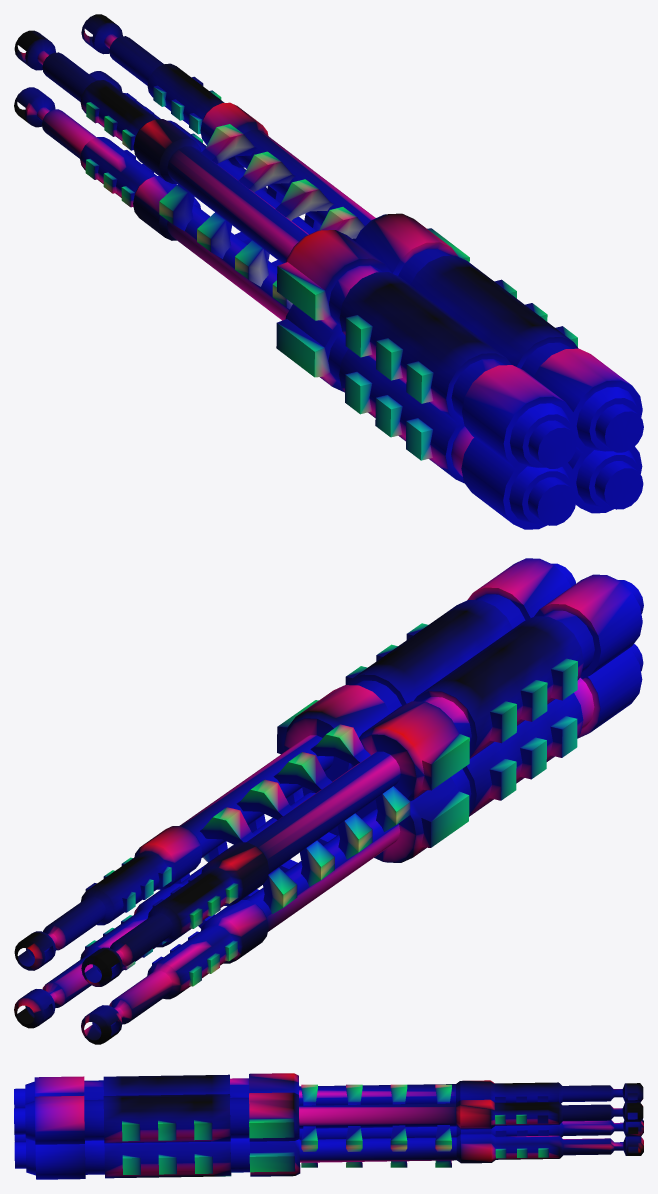
File: wpn_laser_cannon_01_quadBracket.fbx
3 views of the same model, one above another, from view 1: azimuth 30°, elevation 25°; view 2: azimuth 150°, elevation 25°; view 3: azimuth 270°, elevation 25° (orthographic). The views are drawn at different scales.
Visible parts, largest first — view 1: wpn_laser_cannon_01_quadBracket; view 2: wpn_laser_cannon_01_quadBracket; view 3: wpn_laser_cannon_01_quadBracket.
Boxes of the visible parts, x1,y1,x2,y2 form: wpn_laser_cannon_01_quadBracket: (14,14,643,529); wpn_laser_cannon_01_quadBracket: (14,558,643,1044); wpn_laser_cannon_01_quadBracket: (14,1073,643,1179).
Size of the model in its own units: 432 by 369 by 2548.
